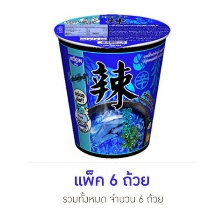paper_cup: (50, 9, 173, 163)
